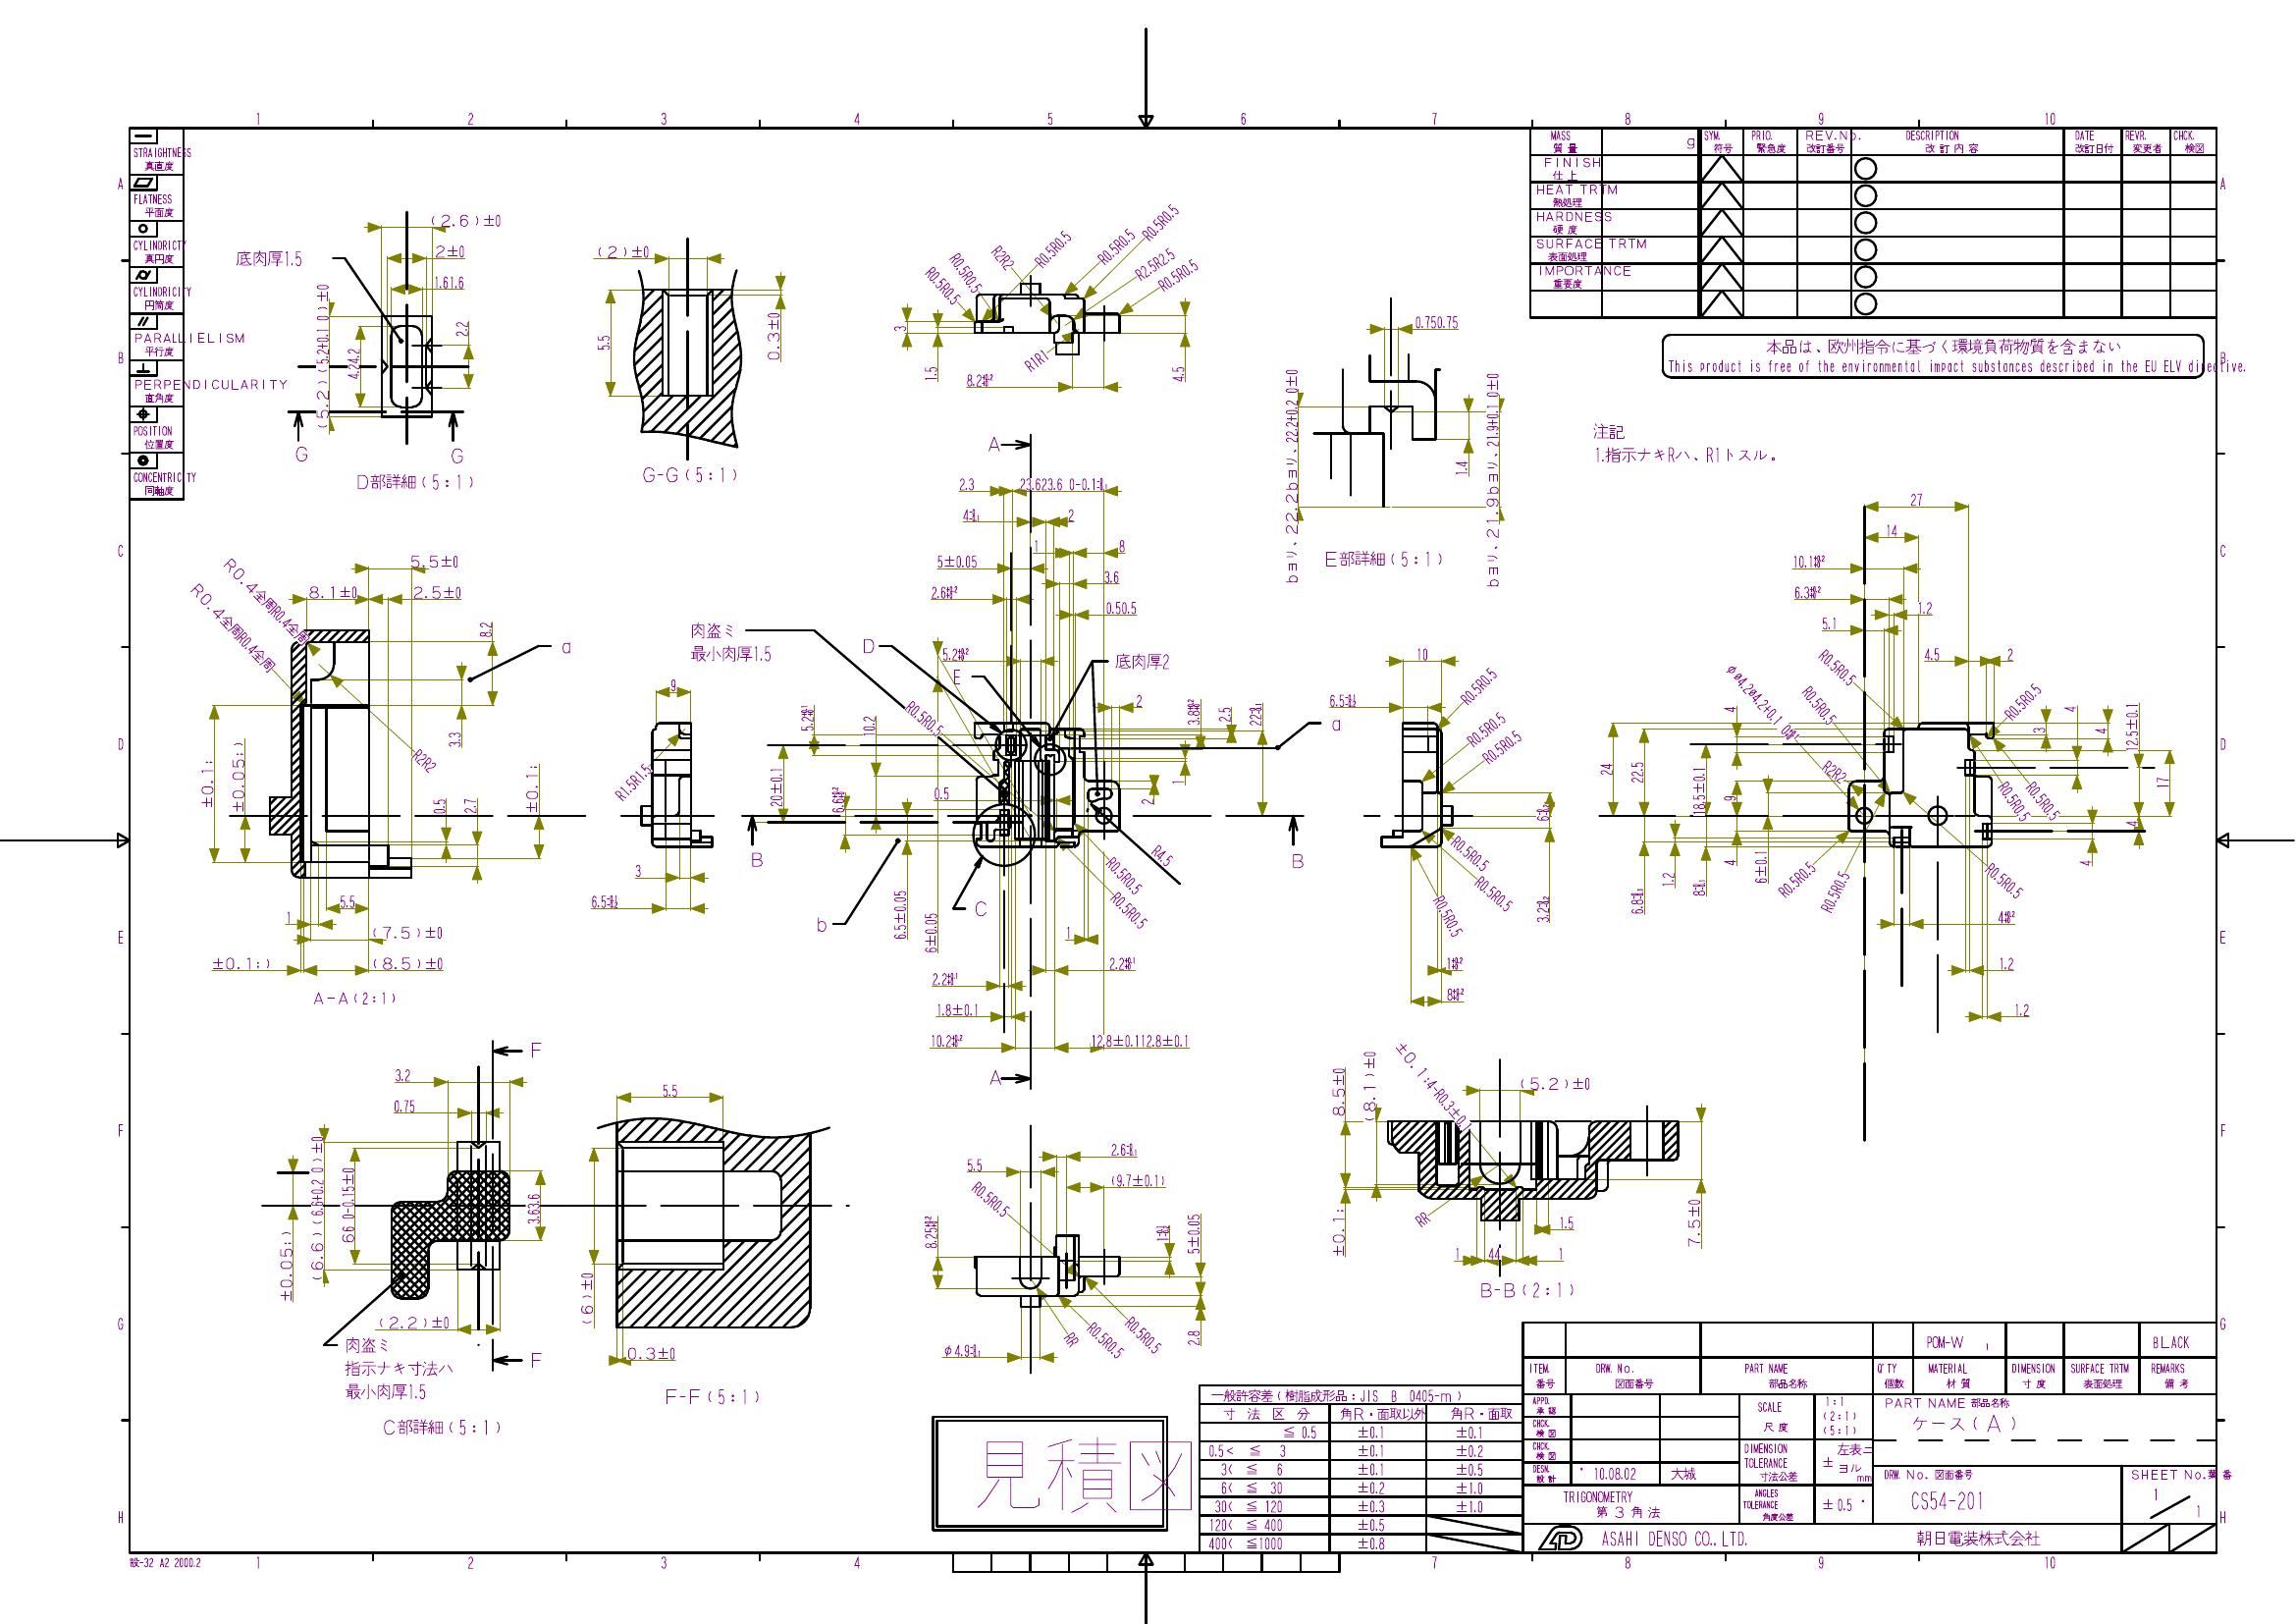anntotation_text: (928, 1413, 1193, 1533), (1660, 332, 2247, 380), (1592, 422, 1778, 462), (343, 1336, 455, 1403), (689, 620, 771, 664), (1323, 547, 1442, 568), (381, 1418, 502, 1438), (355, 473, 473, 492), (641, 462, 736, 483), (662, 1385, 759, 1404), (1479, 1280, 1574, 1299), (311, 990, 397, 1007), (234, 250, 306, 269), (1114, 650, 1170, 671), (128, 1555, 202, 1568), (448, 445, 464, 466), (293, 445, 309, 464), (987, 1067, 1003, 1084), (986, 434, 1000, 453), (973, 900, 987, 917), (529, 1350, 541, 1369), (863, 636, 875, 656), (950, 666, 963, 685), (1330, 715, 1342, 733), (1291, 852, 1303, 870), (529, 1040, 539, 1060), (750, 851, 762, 866), (815, 916, 826, 933), (560, 642, 571, 656)
dimension_text: (1282, 367, 1300, 587), (1484, 371, 1500, 589), (307, 1134, 327, 1281), (313, 283, 330, 429), (207, 592, 325, 610), (174, 617, 292, 634), (1375, 1079, 1491, 1095), (1089, 1032, 1191, 1049), (1713, 692, 1809, 710), (1518, 1074, 1592, 1091), (339, 1164, 355, 1243), (1017, 476, 1105, 490), (1360, 1048, 1375, 1121), (230, 740, 246, 814), (429, 213, 502, 228), (278, 1229, 293, 1301), (371, 924, 443, 940), (1451, 677, 1505, 696), (371, 956, 444, 970), (376, 1315, 448, 1329), (411, 582, 462, 601), (209, 954, 271, 970), (1685, 1193, 1702, 1248), (1100, 865, 1147, 884), (1421, 907, 1472, 924), (1446, 844, 1497, 861), (1330, 1204, 1347, 1255), (522, 763, 539, 814), (891, 889, 908, 940), (1110, 1172, 1166, 1188), (578, 1269, 594, 1325), (197, 759, 214, 808), (1105, 902, 1154, 919), (1462, 721, 1509, 738), (1479, 738, 1527, 756), (408, 554, 460, 569), (597, 243, 650, 258), (306, 584, 357, 599), (1797, 696, 1843, 714), (1472, 886, 1518, 903), (1184, 1213, 1202, 1258), (1690, 765, 1706, 814), (1080, 1332, 1130, 1348), (1117, 1327, 1166, 1343), (966, 1190, 1015, 1206), (1029, 239, 1079, 255), (1980, 874, 2027, 889), (627, 1345, 675, 1360), (1156, 265, 1203, 281), (1815, 659, 1860, 675), (1138, 213, 1184, 228), (610, 773, 655, 789), (1813, 884, 1857, 900), (1131, 255, 1175, 271), (1332, 1065, 1346, 1114), (917, 278, 966, 292), (1532, 891, 1551, 926), (2022, 793, 2064, 808), (766, 311, 780, 359), (936, 1000, 978, 1016), (922, 910, 938, 953), (903, 710, 945, 726), (1325, 689, 1358, 708), (1992, 794, 2038, 808), (1093, 239, 1138, 253), (942, 265, 987, 279), (525, 1188, 541, 1229), (1414, 315, 1458, 329), (929, 1032, 964, 1049), (1107, 1137, 1138, 1156), (1774, 872, 1816, 886), (936, 554, 978, 568), (1627, 886, 1646, 916), (942, 1343, 982, 1357), (922, 1213, 938, 1248), (344, 346, 360, 381), (588, 893, 620, 910), (1753, 849, 1769, 882), (432, 274, 466, 290), (1103, 599, 1137, 615), (1790, 554, 1827, 568), (2001, 696, 2043, 708), (1245, 701, 1265, 728), (769, 766, 782, 807), (1184, 698, 1202, 726), (1792, 584, 1822, 599), (409, 752, 439, 768), (929, 584, 959, 599), (929, 970, 959, 986), (829, 784, 845, 814), (799, 701, 815, 731), (966, 371, 993, 388), (434, 243, 466, 257), (940, 645, 970, 659), (1107, 956, 1137, 970), (1628, 758, 1644, 784), (987, 248, 1014, 264), (1149, 849, 1175, 865), (1994, 907, 2017, 924), (1442, 984, 1465, 1002), (1820, 765, 1848, 779), (1021, 353, 1049, 367), (1535, 798, 1551, 823), (1154, 1220, 1170, 1243), (392, 1098, 415, 1114), (1997, 953, 2015, 972), (1446, 954, 1463, 974), (1216, 705, 1233, 724), (1184, 1327, 1202, 1345), (1414, 1211, 1430, 1230), (661, 1081, 680, 1097), (453, 318, 469, 337), (2013, 1000, 2031, 1016), (1658, 868, 1674, 886), (1556, 1213, 1574, 1229), (446, 729, 462, 747), (460, 798, 478, 814), (594, 334, 610, 352), (933, 784, 949, 801), (1820, 615, 1839, 629), (1922, 647, 1941, 661), (964, 1156, 984, 1171), (1170, 364, 1184, 383), (956, 476, 975, 490), (961, 508, 980, 522), (861, 714, 875, 733), (1599, 759, 1614, 775), (339, 893, 355, 909), (1063, 1334, 1080, 1348), (393, 1067, 411, 1081), (478, 620, 492, 638), (430, 796, 444, 814), (1455, 459, 1469, 475), (1883, 522, 1897, 538), (1917, 599, 1932, 613), (2155, 775, 2170, 791), (922, 364, 936, 380), (1103, 569, 1119, 584), (1910, 490, 1922, 508), (2076, 856, 2094, 868), (1690, 877, 1702, 895), (1488, 1244, 1500, 1262), (1453, 1243, 1463, 1262), (1416, 647, 1428, 663), (1556, 1241, 1565, 1262), (1116, 538, 1126, 552), (632, 861, 641, 877), (2124, 817, 2140, 826), (1065, 506, 1073, 522), (1133, 692, 1142, 708), (1138, 796, 1154, 805), (669, 677, 678, 692), (2064, 705, 2078, 714), (2094, 726, 2108, 735), (1722, 858, 1736, 866), (2031, 726, 2047, 733), (1168, 779, 1184, 786), (1065, 924, 1072, 940), (1722, 793, 1736, 800), (285, 910, 292, 924), (891, 323, 905, 330), (2006, 647, 2013, 659), (1031, 538, 1038, 550), (1722, 705, 1736, 710)
object: (596, 1116, 813, 1329), (265, 627, 415, 881), (1384, 1118, 1681, 1223), (1310, 352, 1440, 508), (388, 1137, 511, 1299), (631, 269, 741, 448), (973, 719, 1123, 849), (1846, 719, 1996, 849), (971, 281, 1123, 357), (971, 1234, 1121, 1308), (1379, 719, 1455, 851), (639, 719, 715, 849), (379, 313, 432, 420)
title_block: (1518, 1318, 2219, 1557), (1527, 123, 2219, 322), (1196, 1380, 1523, 1555), (126, 125, 186, 501)
